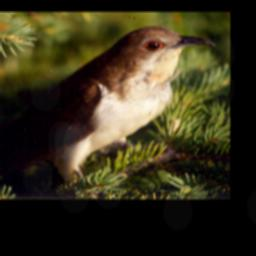Cuckoo: (0, 25, 216, 184)
